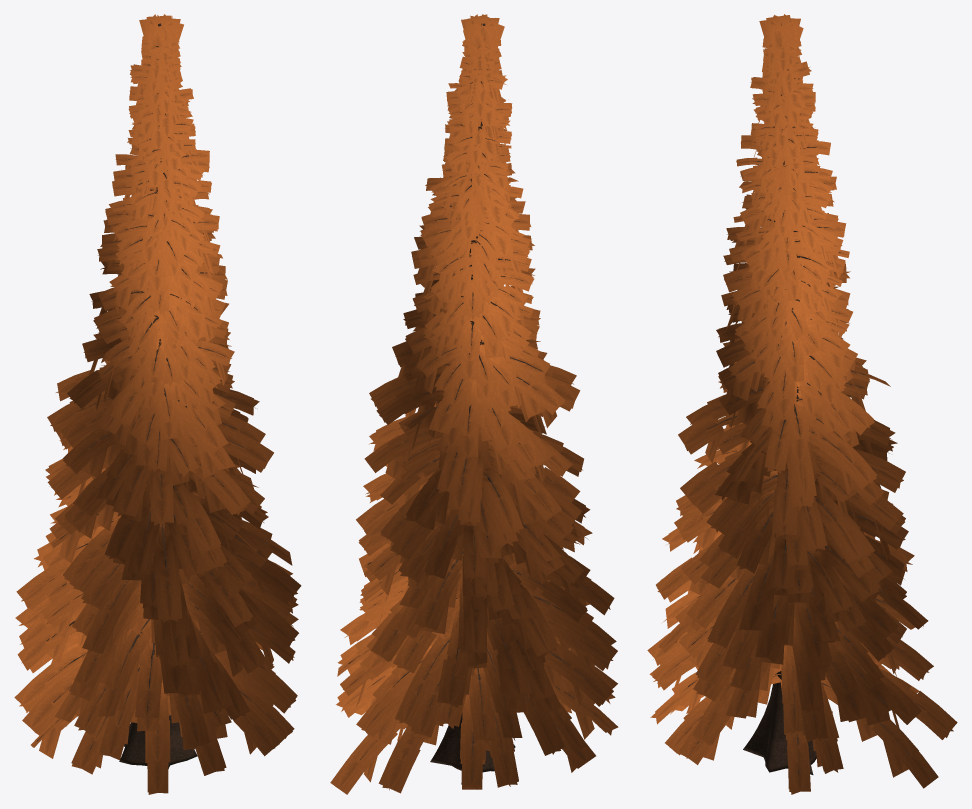
The model's file is baldcypress_v02.fbx.
The picture shows the model from 3 angles, left to right: view 1: azimuth 30°, elevation 25°; view 2: azimuth 150°, elevation 25°; view 3: azimuth 270°, elevation 25°; orthographic projection.
Visible parts, largest first — view 1: baldcypress_v02; view 2: baldcypress_v02; view 3: baldcypress_v02.
Boxes of the visible parts, x1,y1,x2,y2 form: baldcypress_v02: (14,14,301,794); baldcypress_v02: (330,14,618,794); baldcypress_v02: (647,14,957,794).
Bounding box in the file's own units: 911 × 996 × 2621.
Materials: 2 (2 with a texture image).
